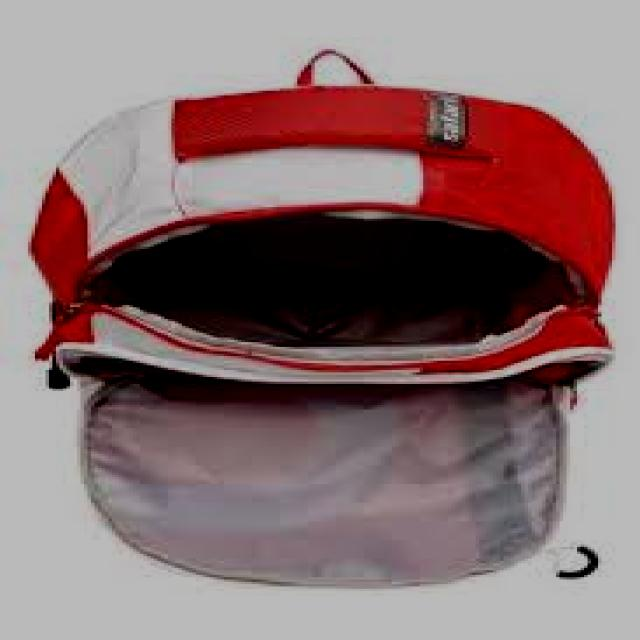backpack: (26, 48, 617, 588)
